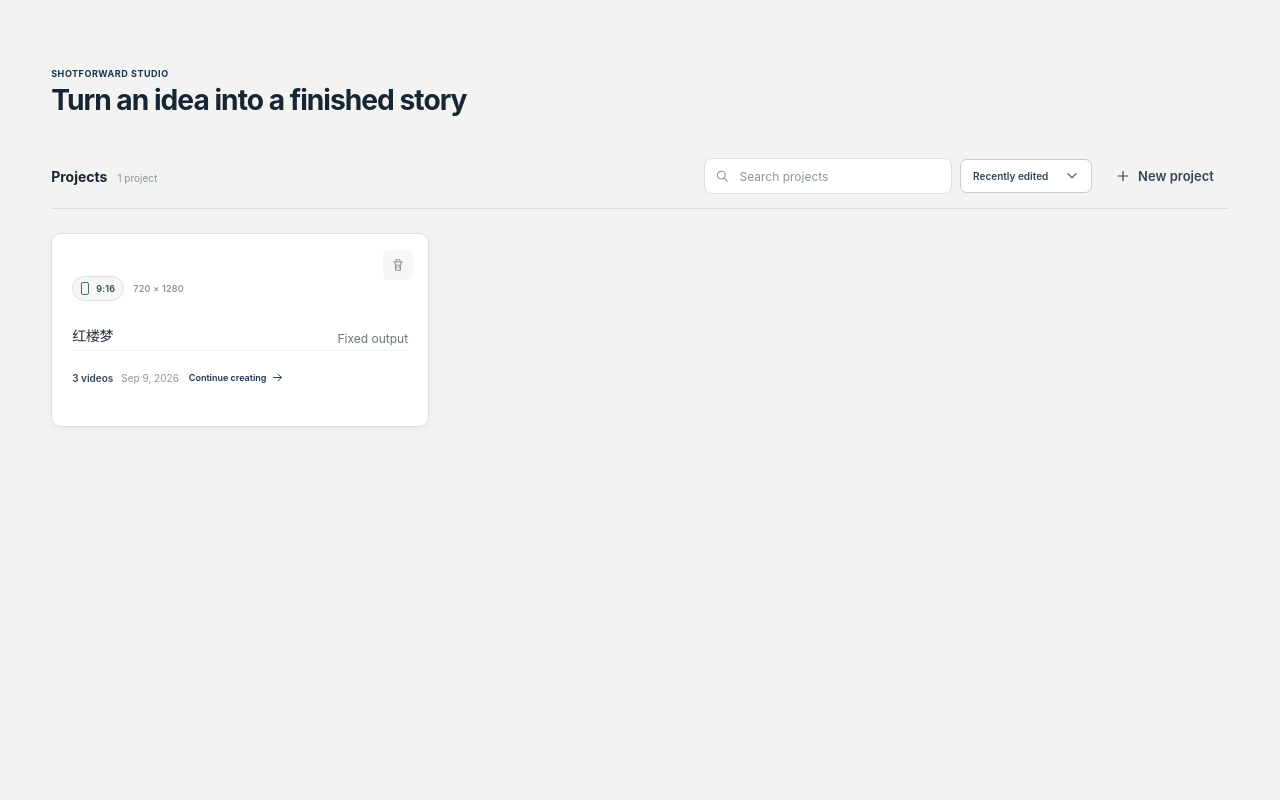
Test: ProjectsPage › shows the API error code and request ID when deletion fails for another reason
Click the button named "Delete project 红楼梦" at (398, 265), box [383, 250, 413, 280]
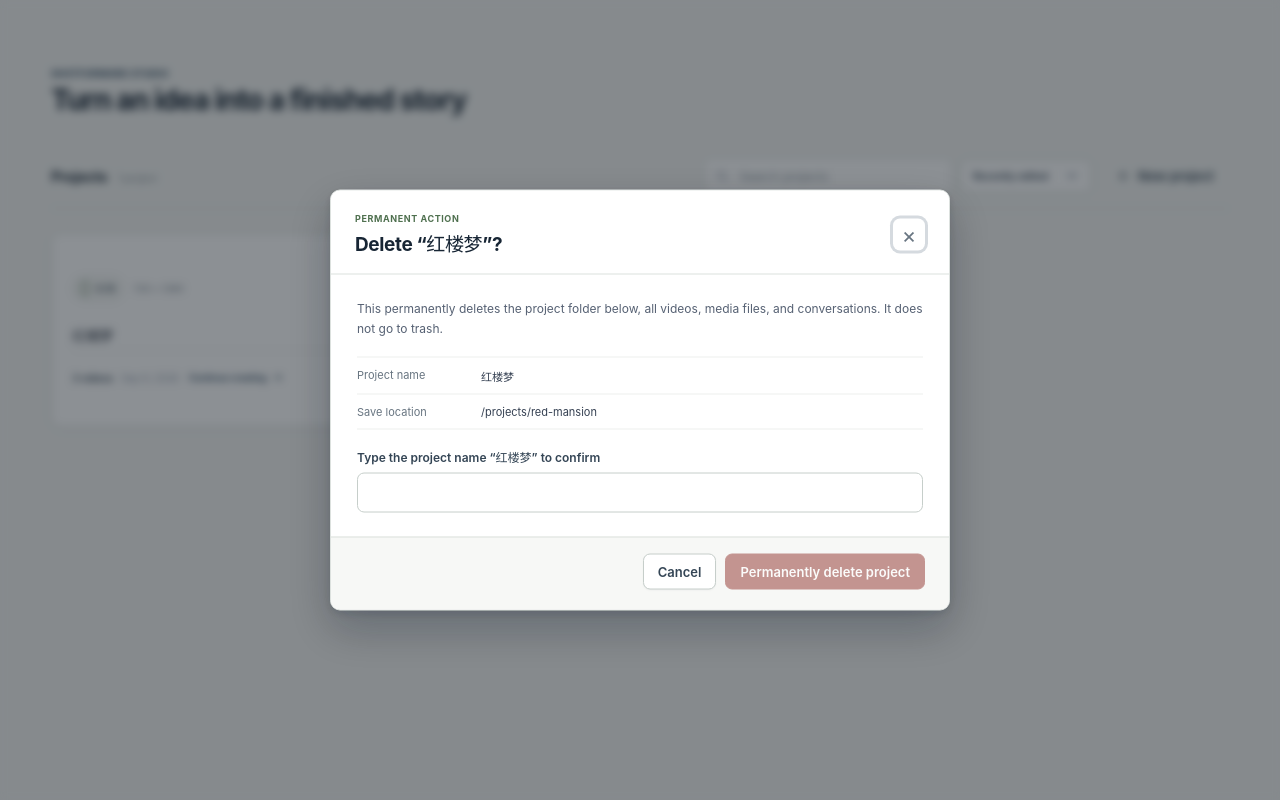
Type "红楼梦" into the field labelled "Type the project name “红楼梦” to confirm" at (640, 492), box [357, 472, 923, 512]
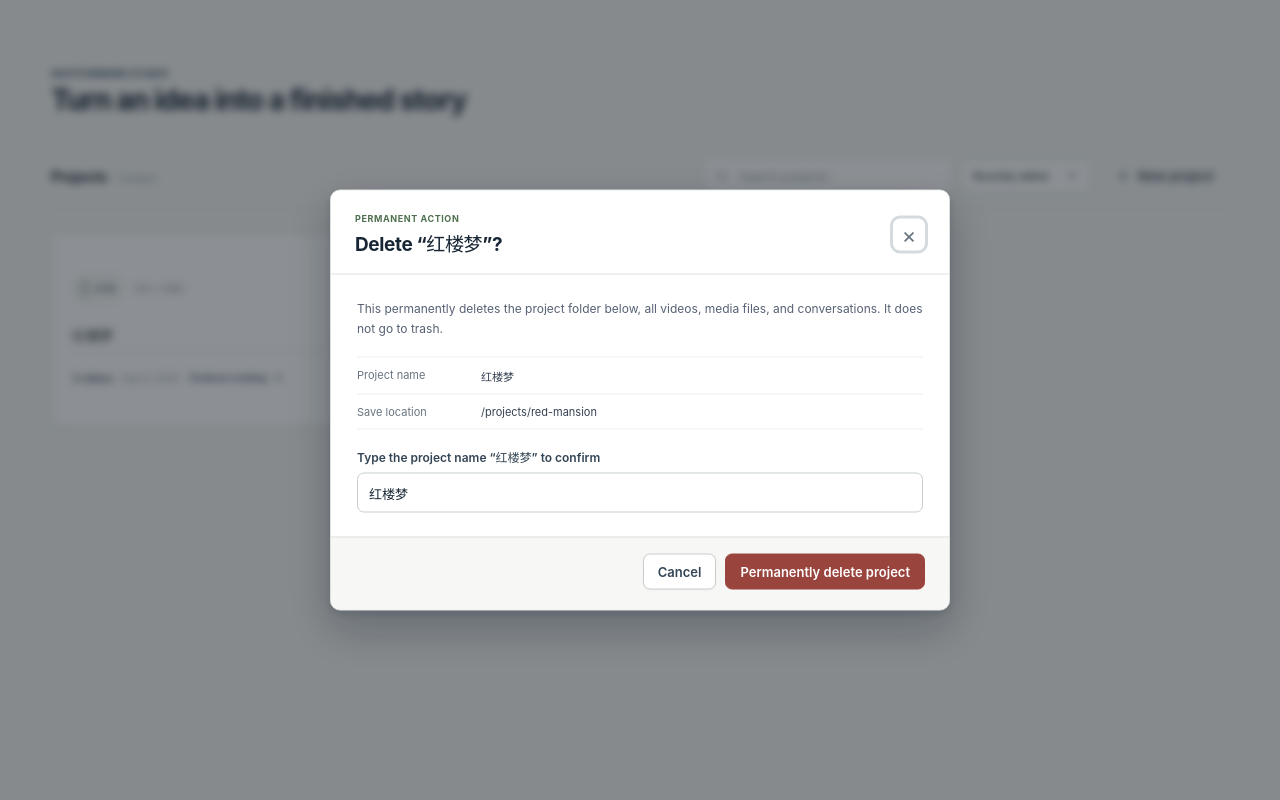
Click the button "Permanently delete project" at (825, 572), box [726, 554, 925, 590]
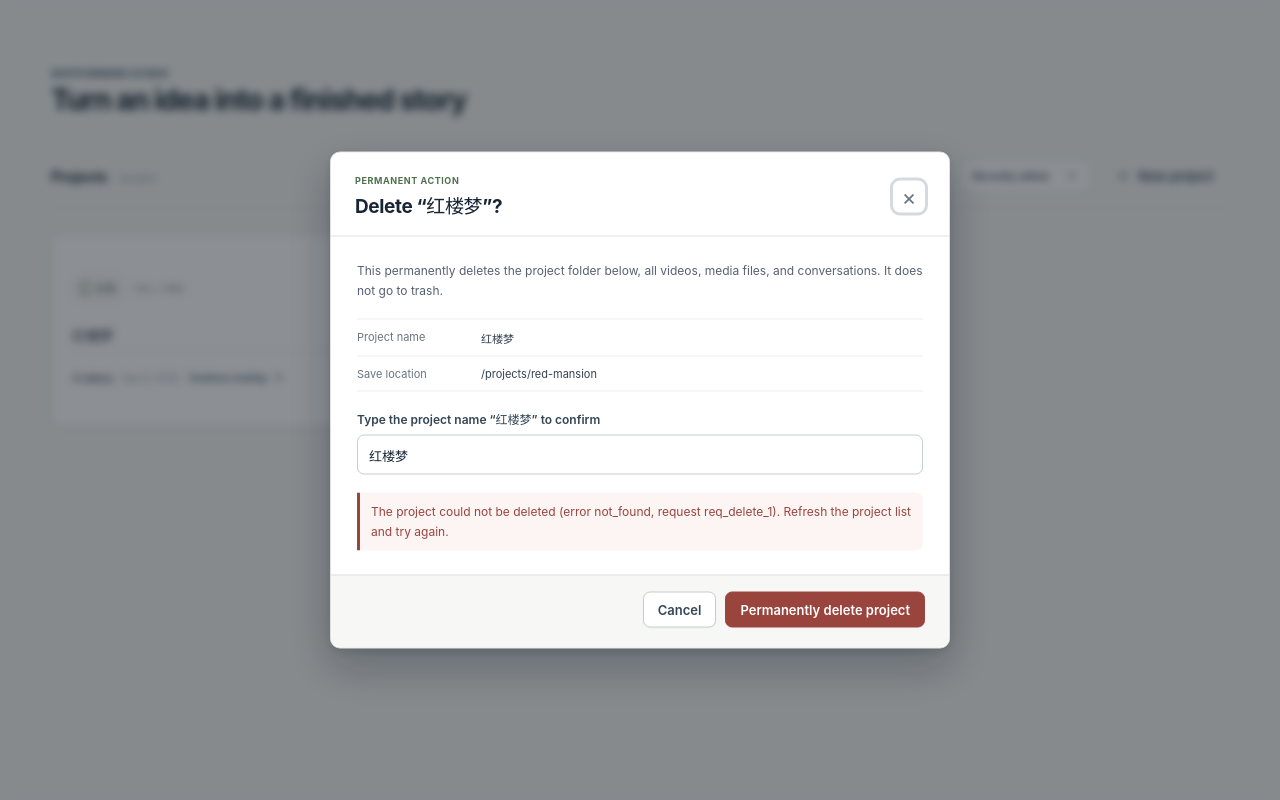
Check: the message shows "not_found", box [371, 504, 911, 538]
Check: the message shows "req_delete_1", box [371, 504, 911, 538]
